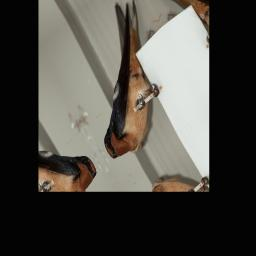Swallow: (47, 0, 195, 167)
